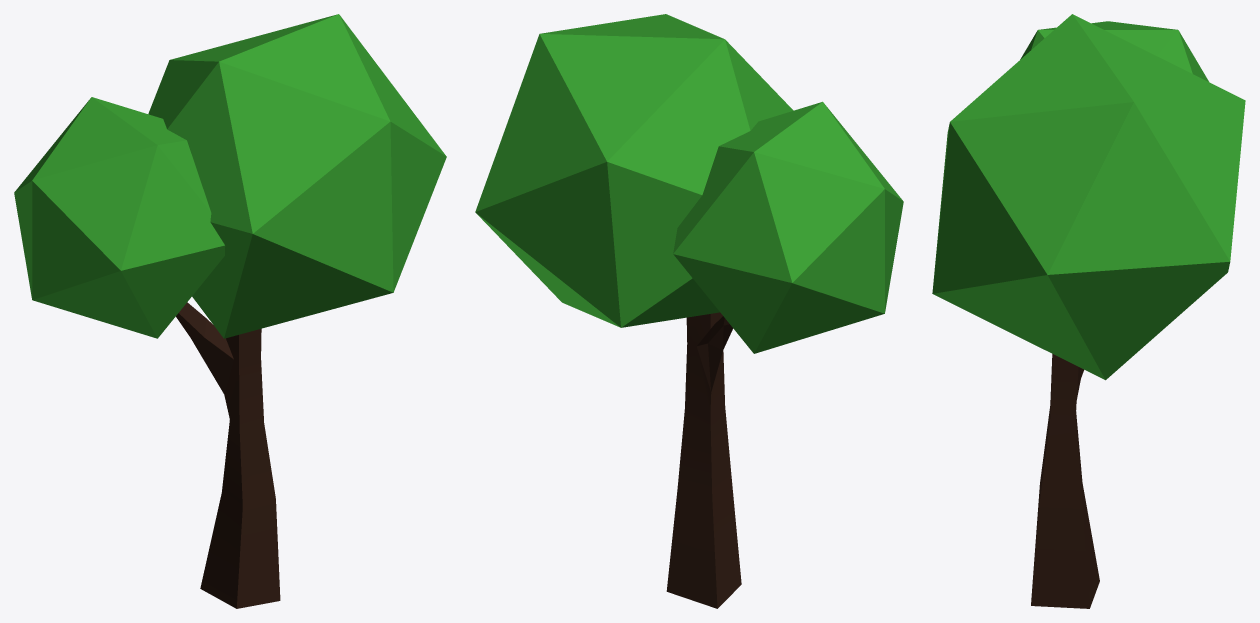
File: Tree-2.FBX
3 renders of one model, left to right at view 1: azimuth 30°, elevation 25°; view 2: azimuth 150°, elevation 25°; view 3: azimuth 270°, elevation 25°, orthographic. The views are drawn at different scales.
Parts seen in each view (by area): view 1: Tree-2; view 2: Tree-2; view 3: Tree-2.
Part boxes in pixels (box(x1,y1,x2,y2)): Tree-2: box(14, 14, 446, 608); Tree-2: box(475, 14, 903, 608); Tree-2: box(932, 14, 1245, 608).
Bounding box in the file's own units: 57.11 × 75.62 × 37.65.
